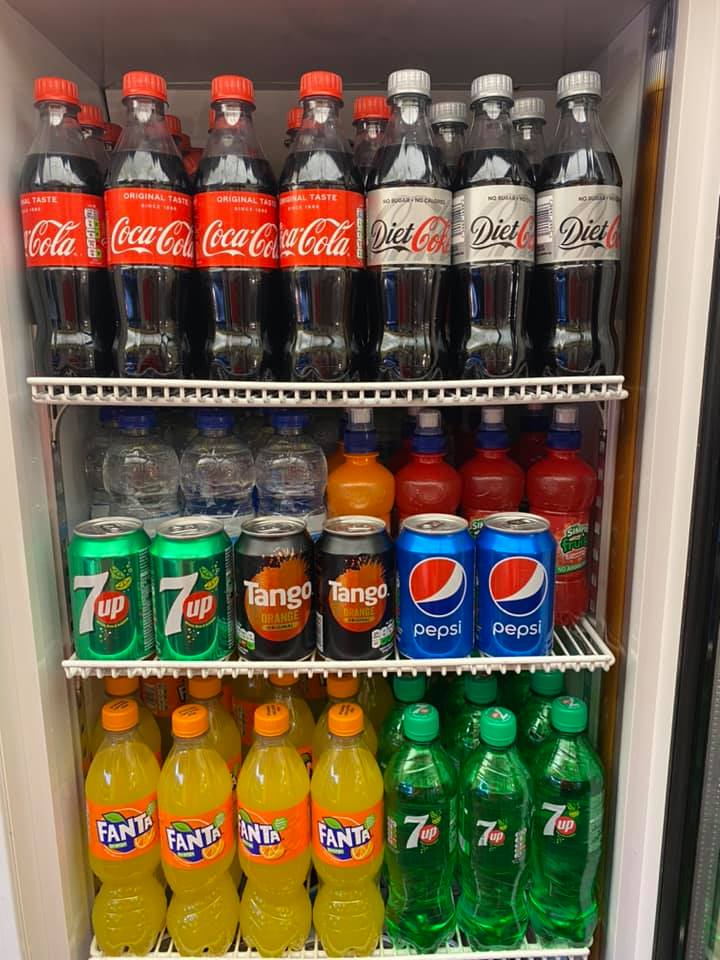7up: (158, 569, 217, 640), (73, 568, 128, 638), (541, 798, 579, 846), (404, 811, 441, 850), (474, 813, 506, 854)
cocacola: (114, 212, 194, 262)
dietcoke: (368, 218, 454, 257)
fanta: (311, 820, 373, 850), (97, 814, 154, 844), (166, 825, 222, 853), (238, 816, 283, 849)
pepsi: (405, 557, 468, 619), (488, 555, 546, 617)
simplyfruity: (558, 526, 593, 553)
tango: (243, 555, 313, 639), (330, 561, 390, 631)
